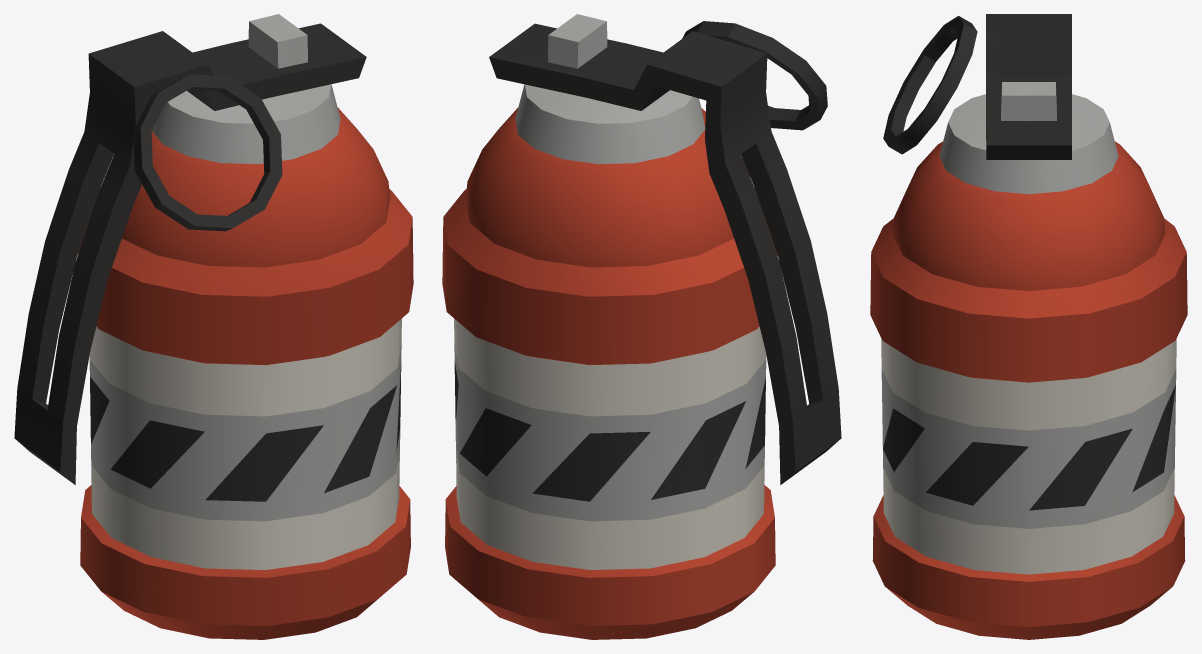
The picture shows the model from 3 angles, left to right: view 1: azimuth 30°, elevation 25°; view 2: azimuth 150°, elevation 25°; view 3: azimuth 270°, elevation 25°; orthographic projection. The views are drawn at different scales.
Parts seen in each view (by area): view 1: incendiary; view 2: incendiary; view 3: incendiary.
Part boxes in pixels (left/top/right/bottom): incendiary: left=14, top=14, right=413, bottom=639; incendiary: left=442, top=14, right=841, bottom=639; incendiary: left=870, top=14, right=1187, bottom=639.
Bounding box in the file's own units: 0.0858 × 0.128 × 0.0709.
Materials: 1 (1 with a texture image).
